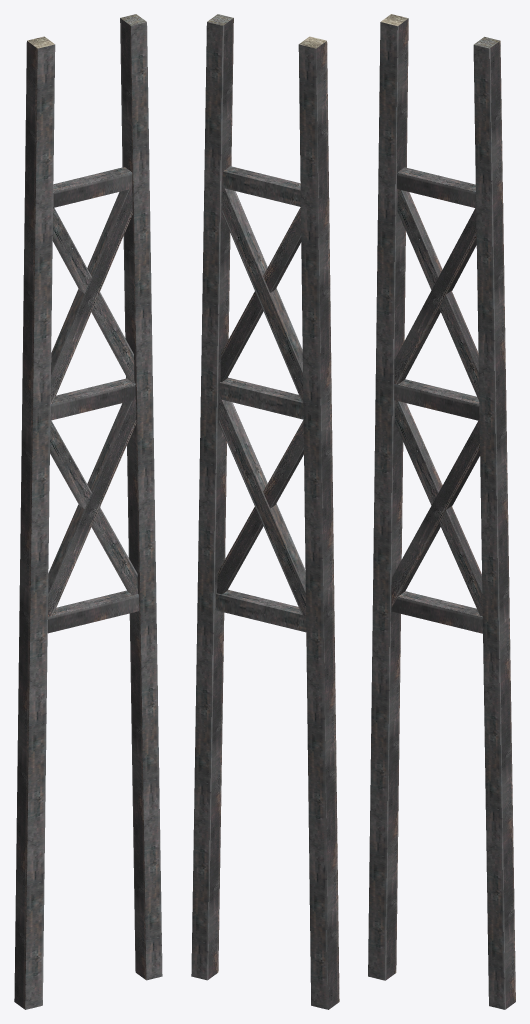
The model's file is RBRG03.glb.
The picture shows the model from 3 angles, left to right: view 1: azimuth 30°, elevation 25°; view 2: azimuth 150°, elevation 25°; view 3: azimuth 330°, elevation 25°; orthographic projection.
Parts seen in each view (by area): view 1: _RBRG03; view 2: _RBRG03; view 3: _RBRG03.
Part boxes in pixels (bbox=[...]): _RBRG03: bbox=[14, 14, 162, 1009]; _RBRG03: bbox=[191, 14, 339, 1009]; _RBRG03: bbox=[368, 14, 515, 1009].
Bounding box in the file's own units: 5.76 × 38.43 × 0.7929.
1 material, 1 textured.
